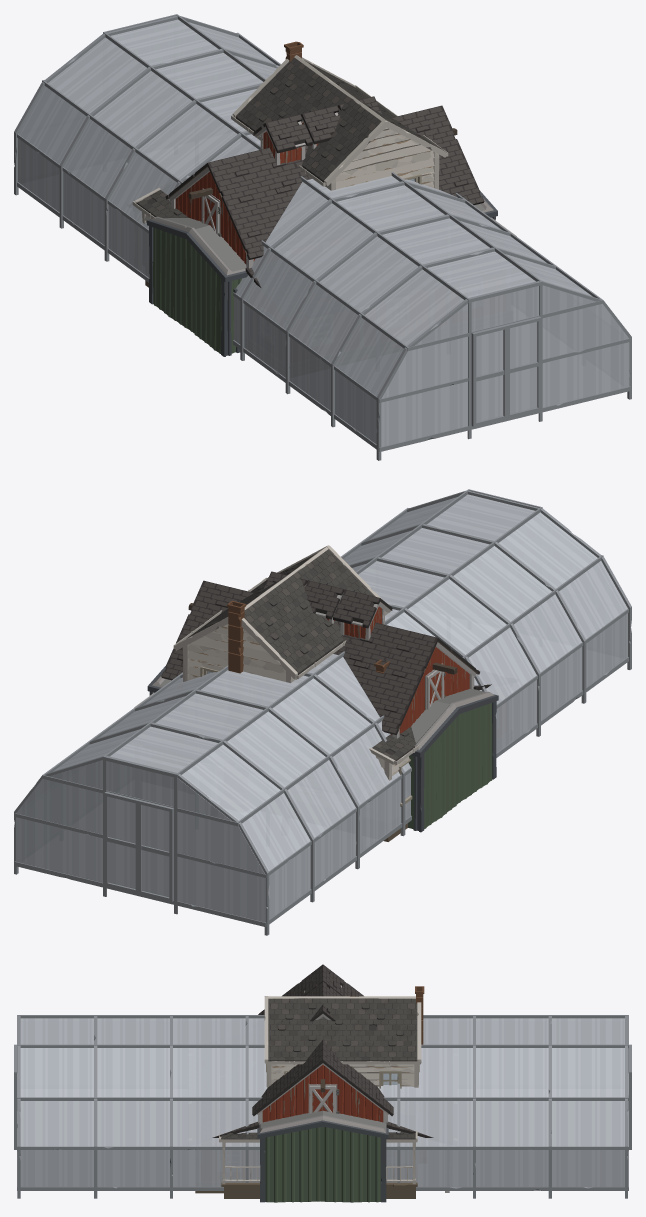
Rendered from farm.glb.
3 renders of one model, top to bottom at view 1: azimuth 30°, elevation 25°; view 2: azimuth 150°, elevation 25°; view 3: azimuth 270°, elevation 25°, orthographic. The views are drawn at different scales.
Visible parts, largest first — view 1: farm_greenhouse_large, farm_farmhouse, farm_garage, farm_barn, farm_barn_02, farm_barn_03; view 2: farm_greenhouse_large, farm_farmhouse, farm_garage, farm_barn_02, farm_barn, farm_barn_03; view 3: farm_greenhouse_large, farm_farmhouse, farm_garage, farm_barn, farm_barn_02.
Boxes of the visible parts, box(x1,y1,x2,y2) form: farm_greenhouse_large: box(14, 14, 631, 460); farm_farmhouse: box(132, 41, 516, 287); farm_garage: box(147, 191, 497, 356); farm_barn: box(167, 96, 483, 287); farm_barn_02: box(165, 116, 484, 268); farm_barn_03: box(258, 105, 340, 215); farm_greenhouse_large: box(14, 489, 631, 935); farm_farmhouse: box(134, 545, 419, 841); farm_garage: box(147, 666, 498, 832); farm_barn_02: box(162, 571, 479, 738); farm_barn: box(161, 577, 491, 736); farm_barn_03: box(245, 580, 400, 690); farm_greenhouse_large: box(14, 1015, 631, 1198); farm_farmhouse: box(219, 986, 424, 1198); farm_garage: box(257, 1110, 388, 1202); farm_barn: box(195, 964, 449, 1193); farm_barn_02: box(252, 964, 392, 1120).
Bounding box in the file's own units: 13.89 × 9.82 × 32.46.
6 materials, 6 textured.
